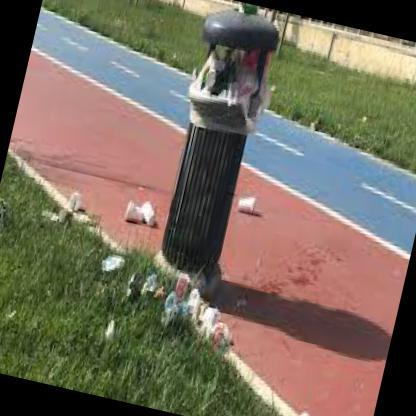Garbage: (124, 268, 229, 354), (190, 42, 276, 119), (47, 166, 120, 248), (114, 186, 163, 234), (88, 236, 122, 299), (152, 274, 188, 323), (225, 196, 266, 228), (220, 70, 248, 102)
